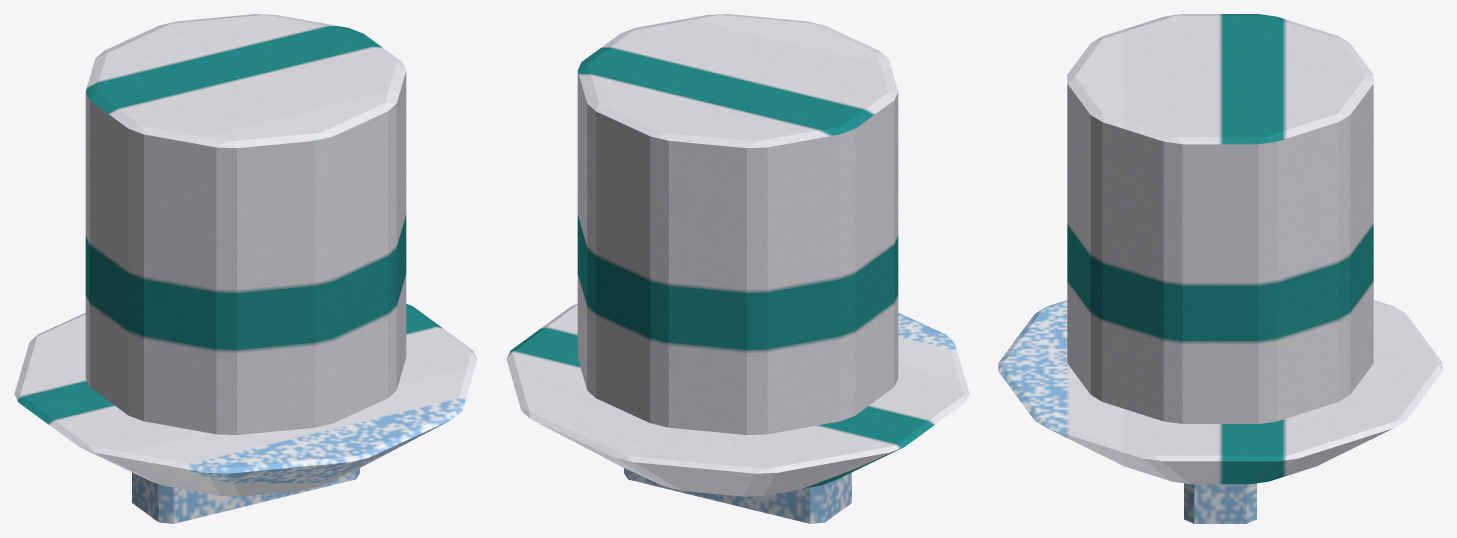
The model's file is Toothbrush.glb.
3 views of the same model, side by side, from view 1: azimuth 30°, elevation 25°; view 2: azimuth 150°, elevation 25°; view 3: azimuth 270°, elevation 25° (orthographic). The views are drawn at different scales.
Parts seen in each view (by area): view 1: Toothbrush; view 2: Toothbrush; view 3: Toothbrush.
Part boxes in pixels (x1,y1,x2,y2): Toothbrush: (14,14,477,523); Toothbrush: (506,14,969,523); Toothbrush: (998,14,1442,523).
Bounding box in the file's own units: 1 × 1 × 1.
1 material, 1 textured.
